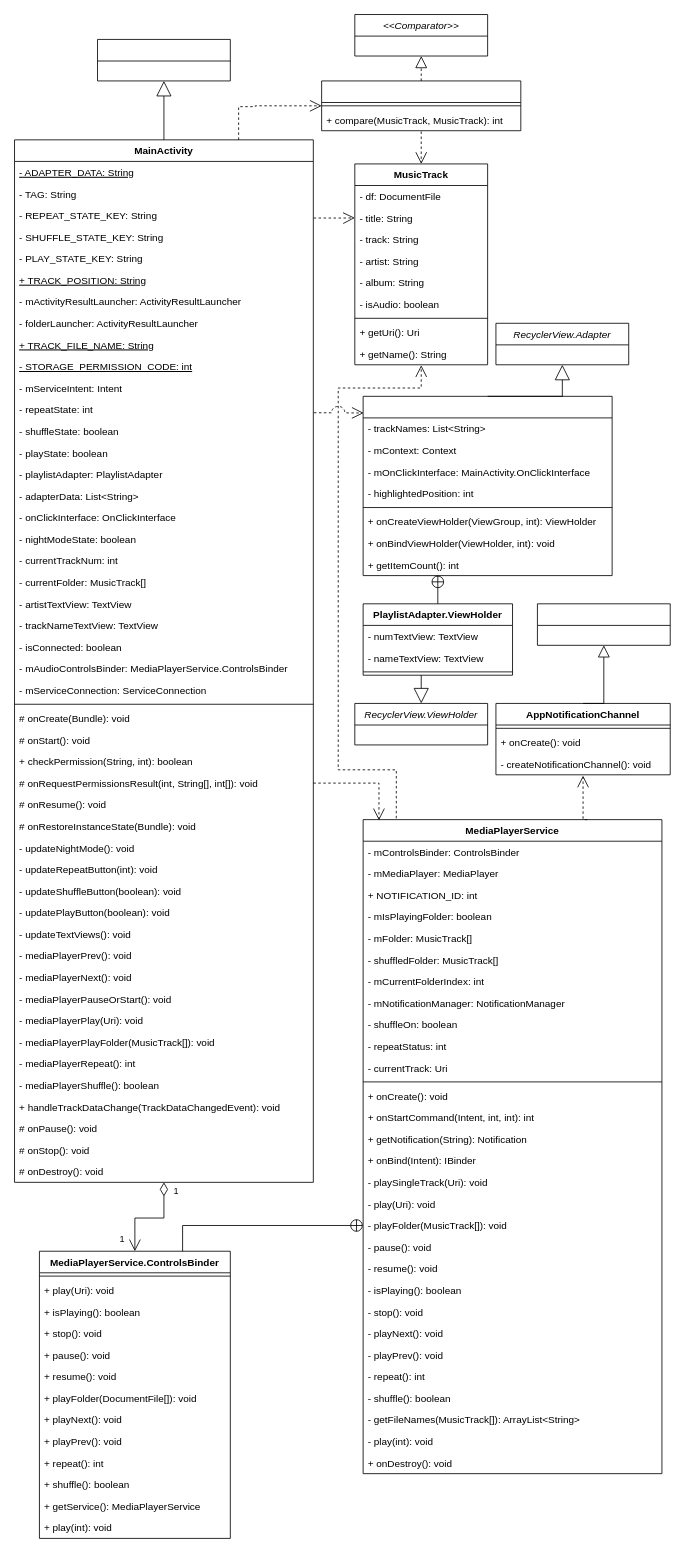
The diagram is 685 pixels wide and 1555 high, and some of its shapes have lost their labels. Each missing label, with the box of its shape:
AppCompatActivity: (97, 39, 230, 81)
Application: (537, 603, 670, 645)
MusicTrackComparator: (321, 80, 521, 131)
PlaylistAdapter: (362, 395, 612, 576)
